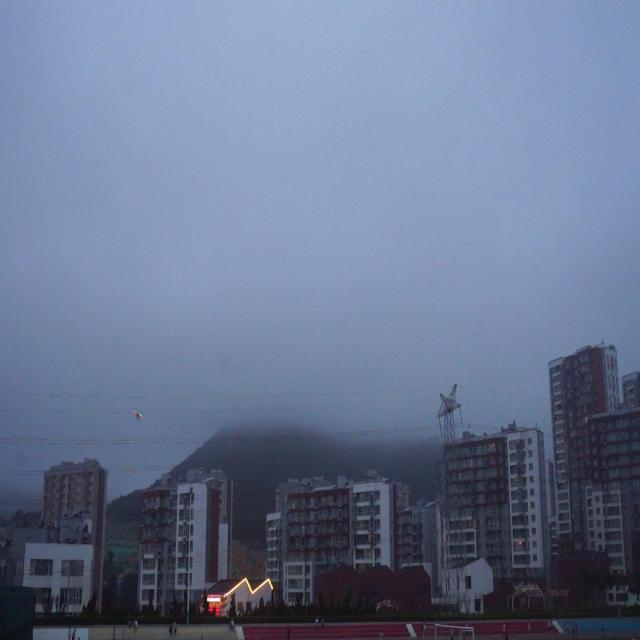drone: (132, 405, 145, 422)
